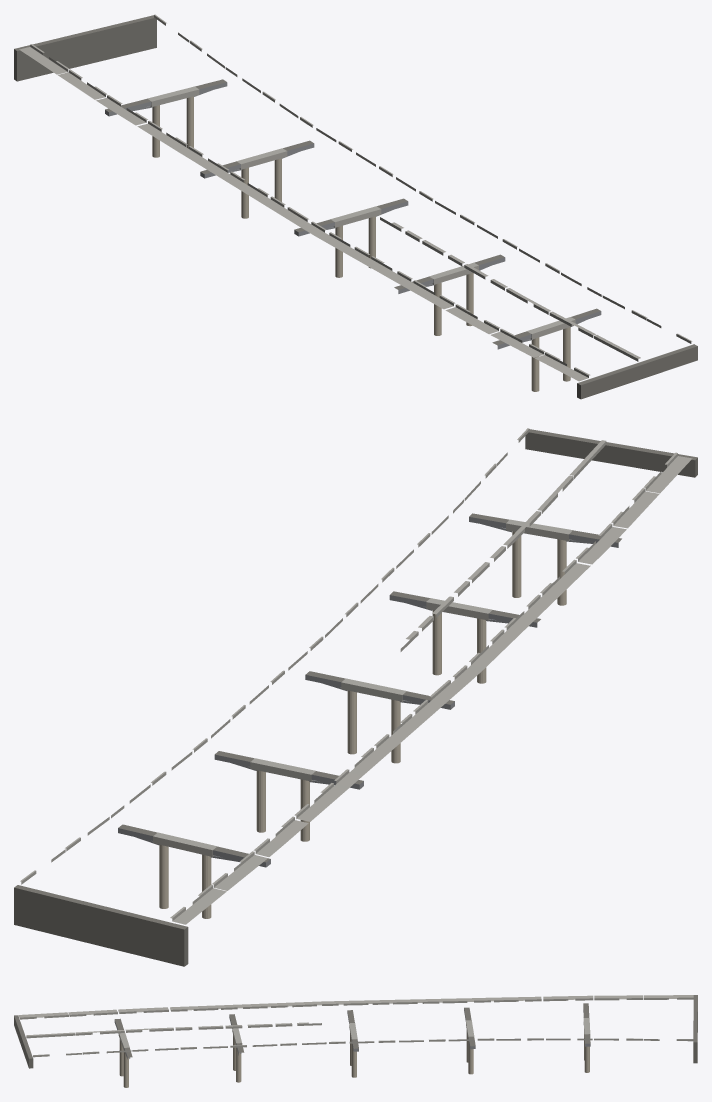
Rendered from br_r6_quesnell_2_lod1.gltf.
3 renders of one model, top to bottom at view 1: azimuth 30°, elevation 25°; view 2: azimuth 150°, elevation 25°; view 3: azimuth 270°, elevation 25°, orthographic. The views are drawn at different scales.
Visible parts, largest first — view 1: br_r6_quesnell_2_lod1; view 2: br_r6_quesnell_2_lod1; view 3: br_r6_quesnell_2_lod1.
Part boxes in pixels (bbox=[...]): br_r6_quesnell_2_lod1: bbox=[14, 14, 697, 399]; br_r6_quesnell_2_lod1: bbox=[14, 428, 697, 966]; br_r6_quesnell_2_lod1: bbox=[14, 995, 697, 1087].
Bounding box in the file's own units: 76.06 × 26.7 × 322.
